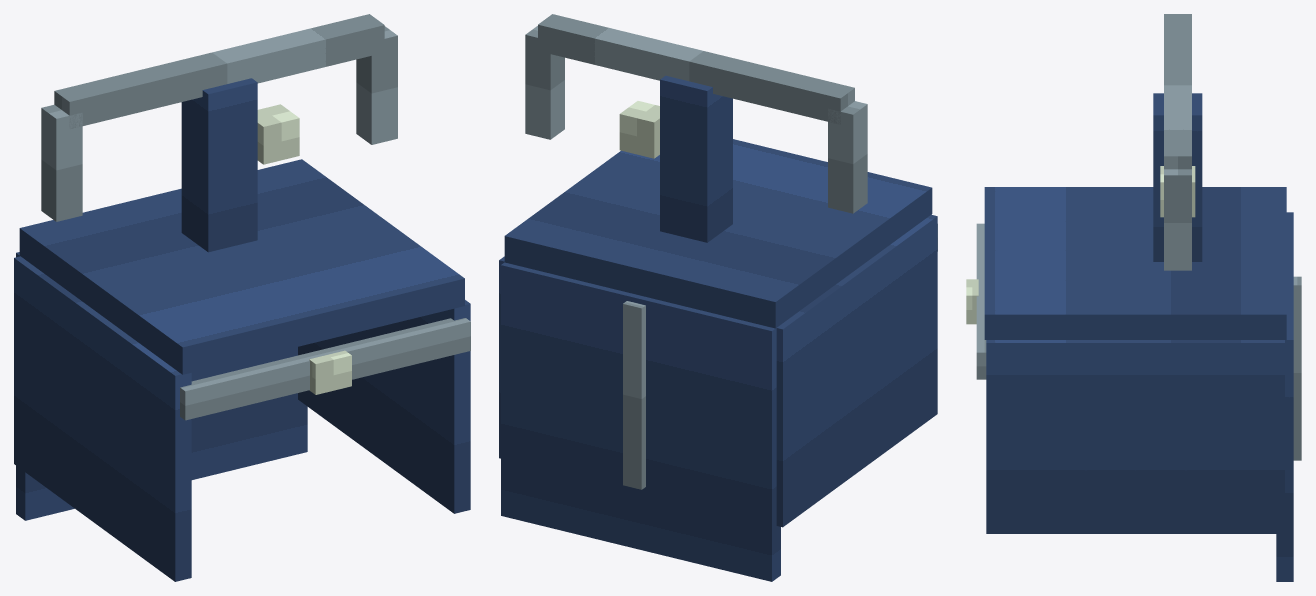
File: yuanying_xinghe_helmet.obj
3 renders of one model, left to right at view 1: azimuth 30°, elevation 25°; view 2: azimuth 150°, elevation 25°; view 3: azimuth 270°, elevation 25°, orthographic. The views are drawn at different scales.
Visible parts, largest first — view 1: cap_top, cap_side_-1, cap_side_1, star_crown_frame_1, star_crown_stem, cap_back, cap_brow, star_crown_frame_0, star_crown_frame_2, star_crown_seed, star_brow_seed; view 2: cap_back, cap_top, cap_side_-1, star_crown_frame_1, star_crown_stem, star_cap_spine, star_crown_frame_0, star_crown_frame_2, star_crown_seed; view 3: cap_side_1, cap_top, star_crown_frame_1, cap_back, star_crown_stem, star_crown_frame_2, star_cap_spine, cap_brow, star_brow_seed.
Part boxes in pixels (bbox=[...]): cap_top: bbox=[19, 159, 464, 374]; cap_side_-1: bbox=[14, 256, 191, 581]; cap_side_1: bbox=[298, 300, 470, 513]; star_crown_frame_1: bbox=[54, 14, 384, 128]; star_crown_stem: bbox=[181, 78, 257, 252]; cap_back: bbox=[16, 252, 307, 520]; cap_brow: bbox=[180, 318, 470, 420]; star_crown_frame_0: bbox=[41, 104, 82, 221]; star_crown_frame_2: bbox=[356, 26, 397, 144]; star_crown_seed: bbox=[257, 104, 299, 164]; star_brow_seed: bbox=[309, 350, 351, 394]; cap_back: bbox=[501, 262, 780, 581]; cap_top: bbox=[504, 139, 932, 328]; cap_side_-1: bbox=[776, 214, 937, 527]; star_crown_frame_1: bbox=[538, 14, 854, 124]; star_crown_stem: bbox=[660, 75, 732, 242]; star_cap_spine: bbox=[623, 301, 645, 489]; star_crown_frame_0: bbox=[828, 101, 867, 213]; star_crown_frame_2: bbox=[525, 26, 564, 139]; star_crown_seed: bbox=[619, 101, 659, 158]; cap_side_1: bbox=[986, 340, 1284, 533]; cap_top: bbox=[984, 187, 1286, 339]; star_crown_frame_1: bbox=[1164, 14, 1191, 169]; cap_back: bbox=[1276, 212, 1293, 581]; star_crown_stem: bbox=[1153, 93, 1202, 261]; star_crown_frame_2: bbox=[1164, 169, 1191, 270]; star_cap_spine: bbox=[1293, 276, 1301, 460]; cap_brow: bbox=[976, 223, 986, 379]; star_brow_seed: bbox=[966, 279, 978, 324].
Bounding box in the file's own units: 0.65 × 0.85 × 0.5969.
